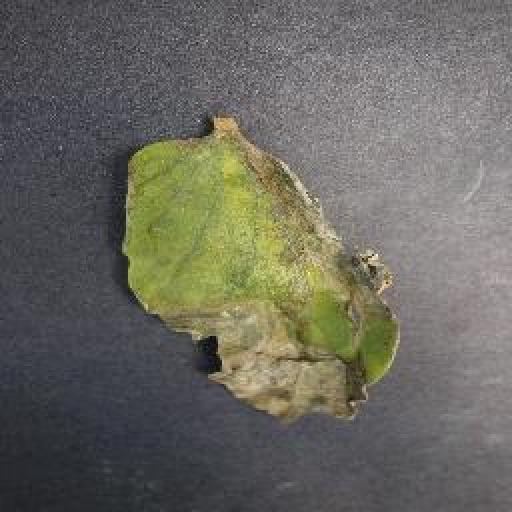disease_tomato: (122, 136, 400, 426)
